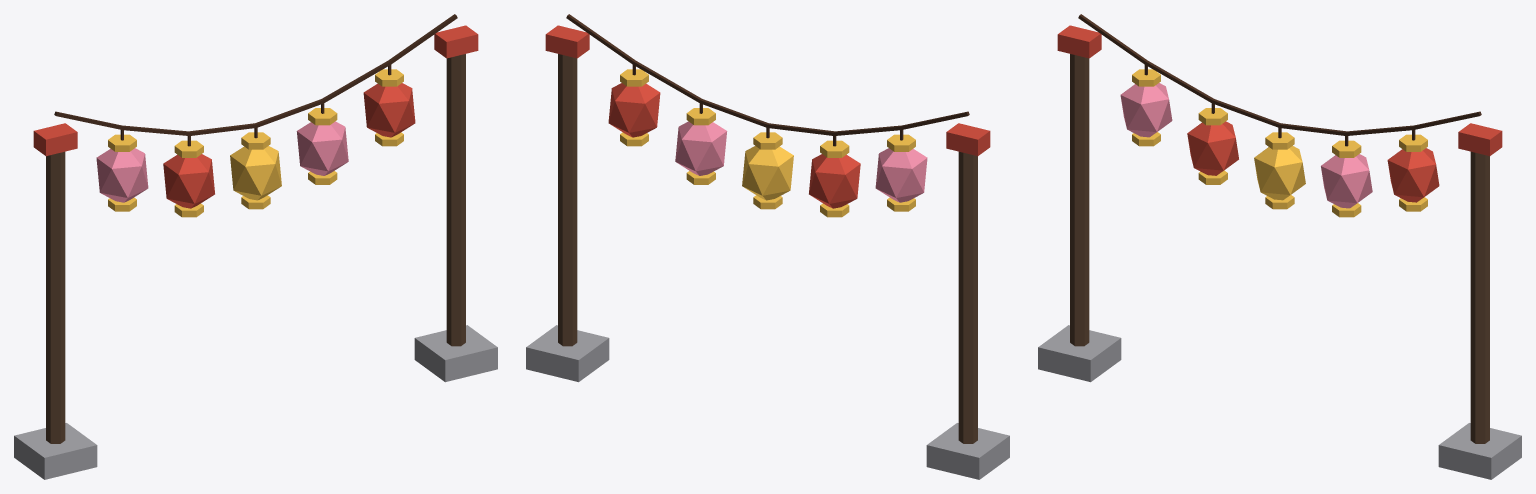
File: CatCafe_Decor_LanternString.glb
The picture shows the model from 3 angles, left to right: view 1: azimuth 30°, elevation 25°; view 2: azimuth 150°, elevation 25°; view 3: azimuth 330°, elevation 25°; orthographic projection.
Visible parts, largest first — view 1: CatCafe_Decor_LanternString, CatCafe_Decor_LanternString_Glow; view 2: CatCafe_Decor_LanternString, CatCafe_Decor_LanternString_Glow; view 3: CatCafe_Decor_LanternString, CatCafe_Decor_LanternString_Glow.
Boxes of the visible parts, bbox=[...] form: CatCafe_Decor_LanternString: bbox=[14, 14, 497, 479]; CatCafe_Decor_LanternString_Glow: bbox=[96, 83, 415, 208]; CatCafe_Decor_LanternString: bbox=[526, 14, 1009, 479]; CatCafe_Decor_LanternString_Glow: bbox=[608, 83, 927, 208]; CatCafe_Decor_LanternString: bbox=[1038, 14, 1521, 479]; CatCafe_Decor_LanternString_Glow: bbox=[1120, 83, 1439, 208].
Bounding box in the file's own units: 4.3 × 3.17 × 0.5.
1 material, 1 textured.
